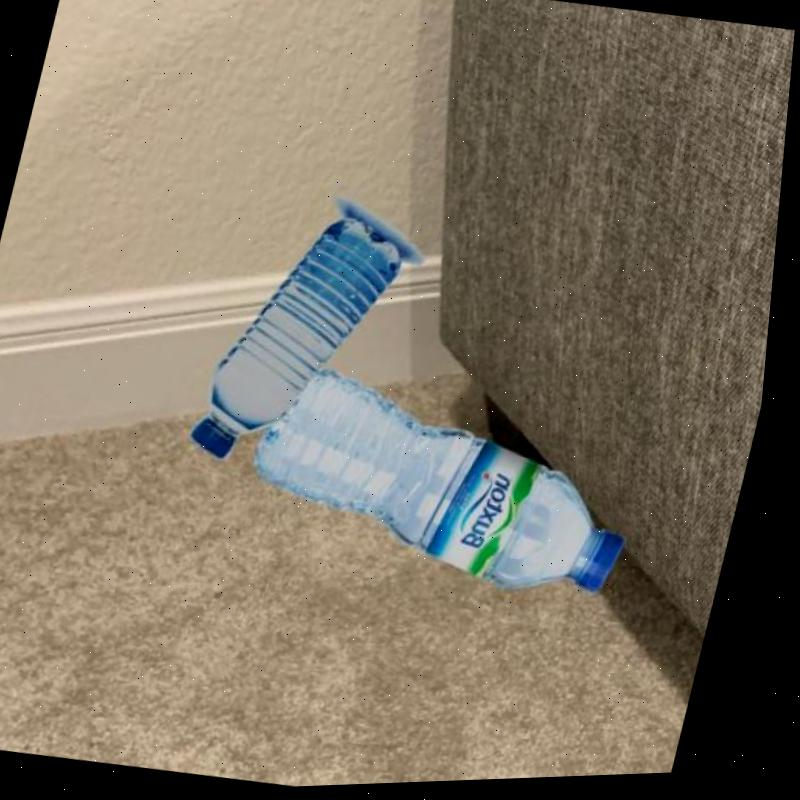botella: (233, 355, 665, 619), (184, 193, 417, 481)
